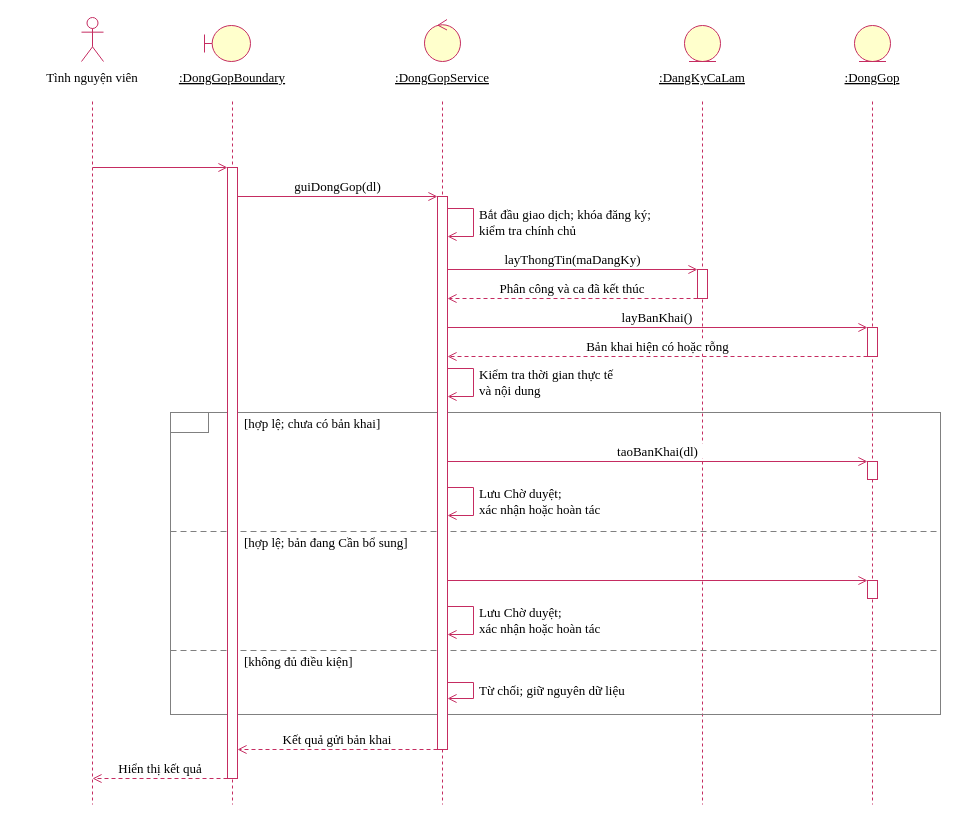
Image size: 964x823. Some labels were removed from this diagram. The centre of each missing label's shape, as x and y in pixels:
"alt" goes at point (189, 422).
"guiLai(dl)" goes at point (657, 569).
"Nhập bản khai, nhấn Gửi" goes at point (159, 149).
